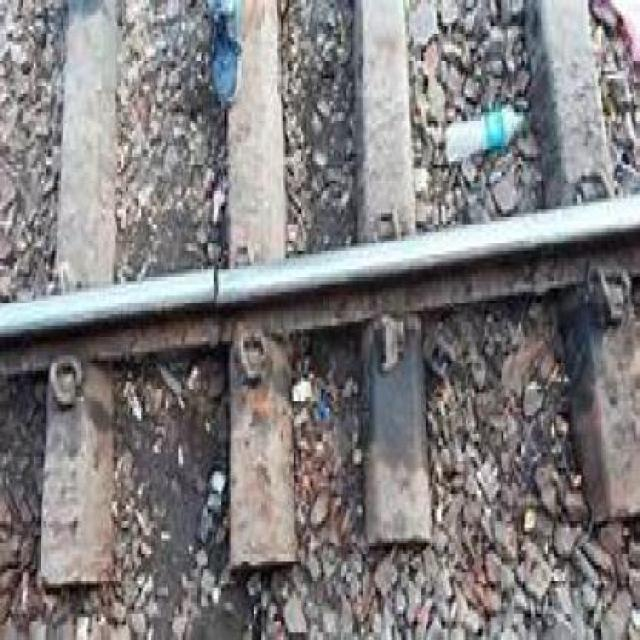defective: (39, 172, 570, 470)
